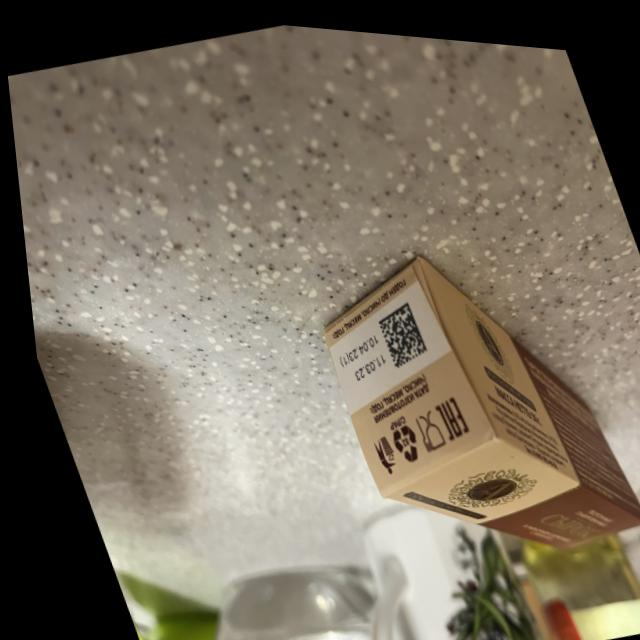datamatrix: (365, 291, 426, 365)
